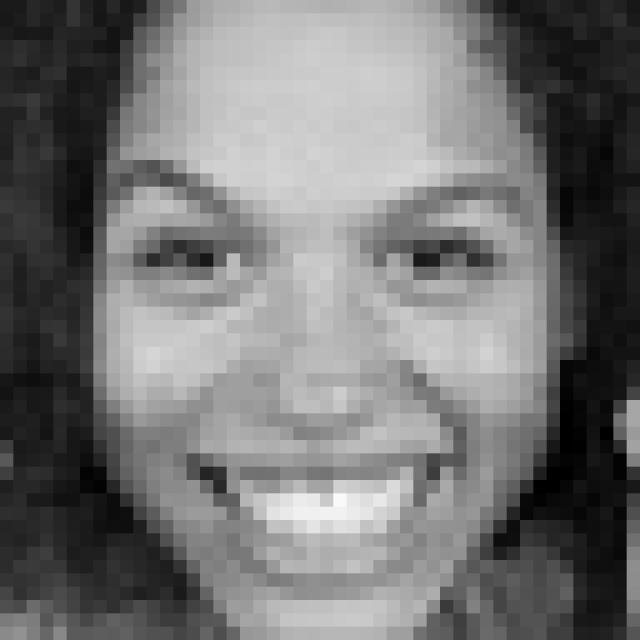happy: (101, 153, 540, 601)
